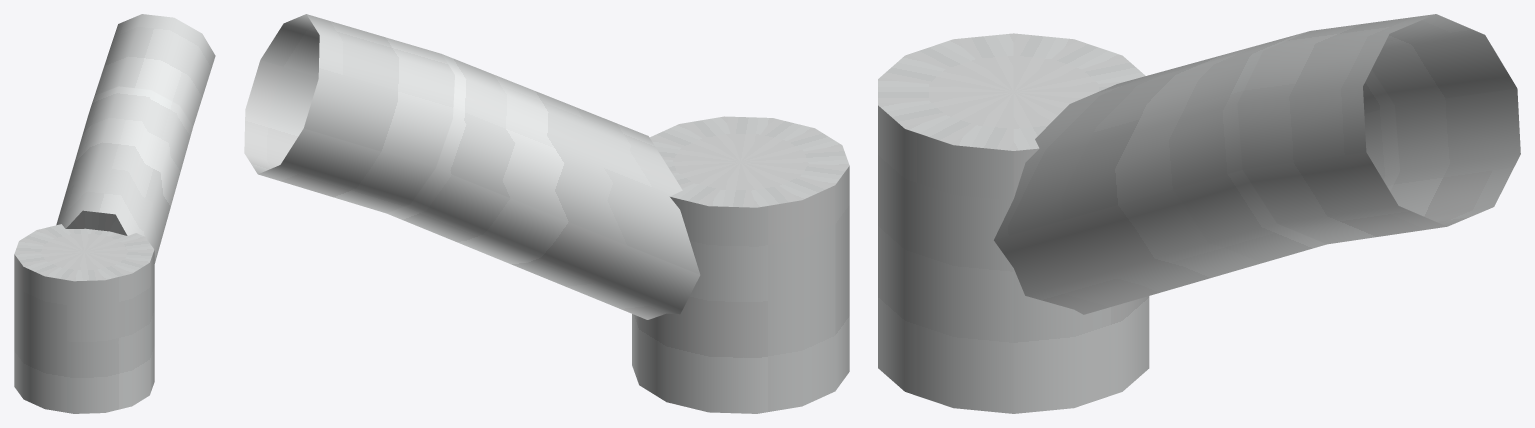
File: nycsignalarm_diagonal8_c1_pedestal.obj
3 renders of one model, left to right at view 1: azimuth 30°, elevation 25°; view 2: azimuth 150°, elevation 25°; view 3: azimuth 270°, elevation 25°, orthographic. The views are drawn at different scales.
Visible parts, largest first — view 1: nycsignalarm_diagonal8_c1_pedestal; view 2: nycsignalarm_diagonal8_c1_pedestal; view 3: nycsignalarm_diagonal8_c1_pedestal.
Boxes of the visible parts, x1,y1,x2,y2 form: nycsignalarm_diagonal8_c1_pedestal: (14, 14, 215, 413); nycsignalarm_diagonal8_c1_pedestal: (244, 14, 849, 413); nycsignalarm_diagonal8_c1_pedestal: (878, 14, 1520, 413).
Size of the model in its own units: 1.03 by 0.8795 by 1.02.
